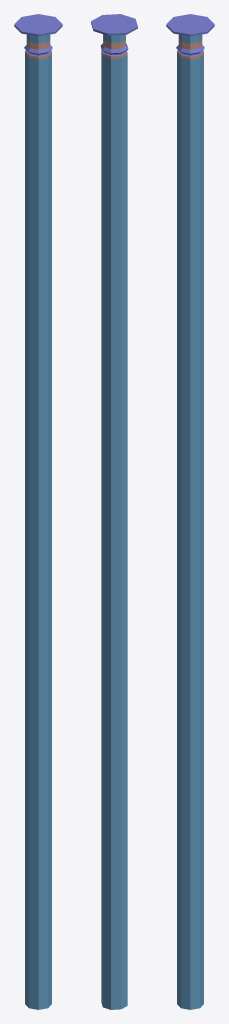
Rendered from pillar2fbx.fbx.
3 renders of one model, left to right at view 1: azimuth 90°, elevation 25°; view 2: azimuth 210°, elevation 25°; view 3: azimuth 270°, elevation 25°, orthographic.
Visible parts, largest first — view 1: Cylinder; view 2: Cylinder; view 3: Cylinder.
Boxes of the visible parts, x1,y1,x2,y2 form: Cylinder: (14, 14, 62, 1009); Cylinder: (91, 14, 137, 1009); Cylinder: (166, 14, 214, 1009).
Size of the model in its own units: 361 by 8029 by 361.
